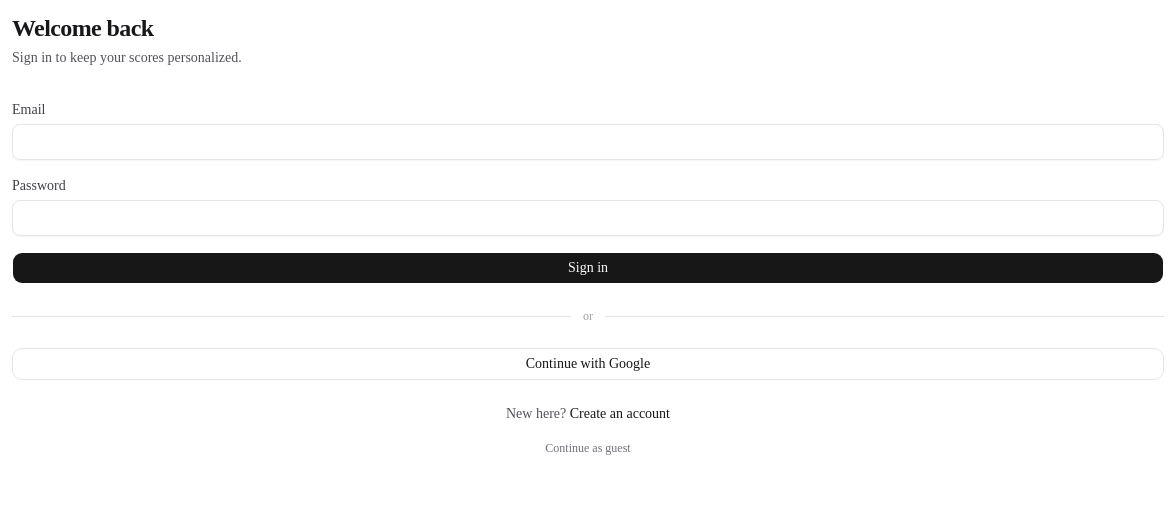
Test case: LoginForm — Google OAuth › surfaces OAuth errors inline
Step 1. Click the button "Continue with Google" → (588, 364), box top-left (12, 348), bottom-right (1164, 380)
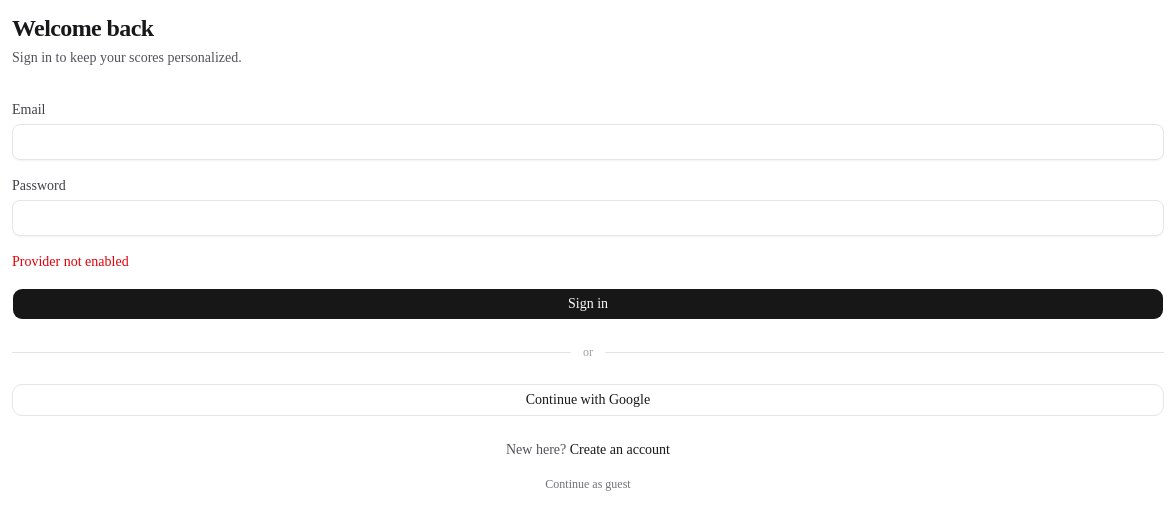
Expected: the message reads "Provider not enabled", top-left (12, 254), bottom-right (129, 269)
